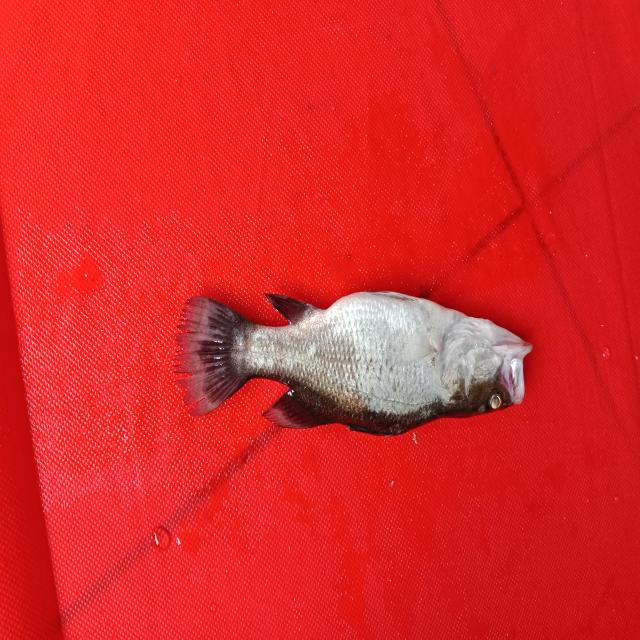ikan: (156, 238, 568, 468)
